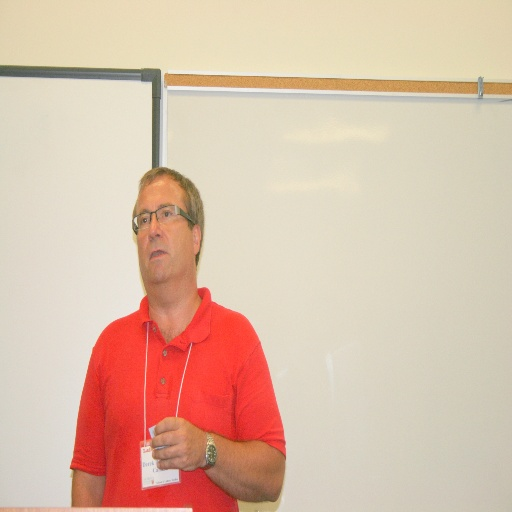hand: (143, 422, 207, 479)
